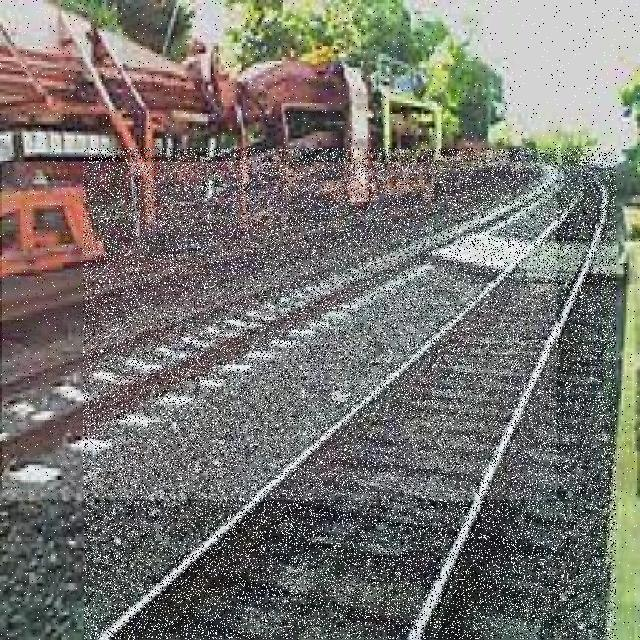rail: (85, 149, 617, 640), (4, 164, 558, 501)
